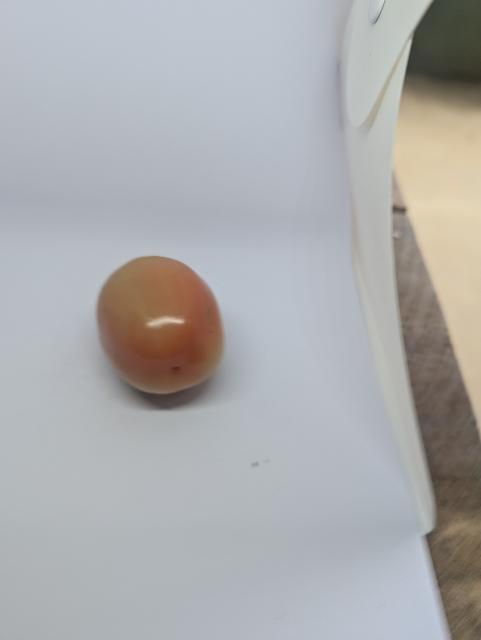turning: (95, 253, 230, 404)
